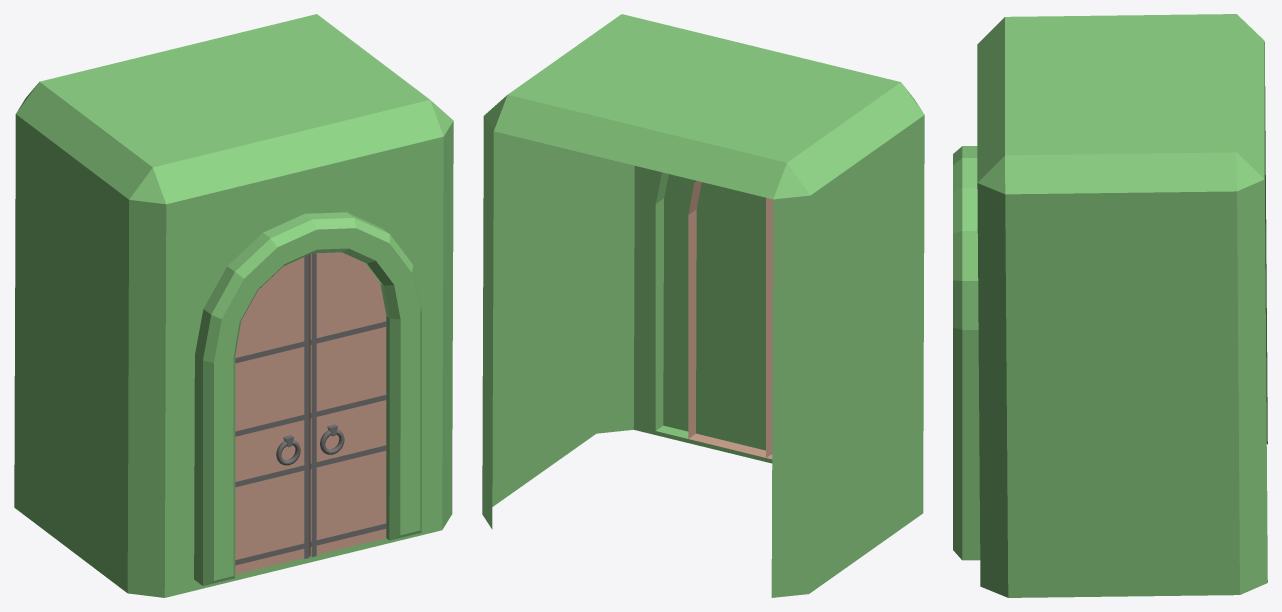
File: puerta_cripta.fbx
The picture shows the model from 3 angles, left to right: view 1: azimuth 30°, elevation 25°; view 2: azimuth 150°, elevation 25°; view 3: azimuth 270°, elevation 25°; orthographic projection. The views are drawn at different scales.
Parts seen in each view (by area): view 1: CryptDoor; view 2: CryptDoor; view 3: CryptDoor.
Boxes of the visible parts, x1,y1,x2,y2 form: CryptDoor: (14,14,453,597); CryptDoor: (482,14,924,597); CryptDoor: (953,14,1267,597).
Size of the model in its own units: 200 by 250 by 164.
